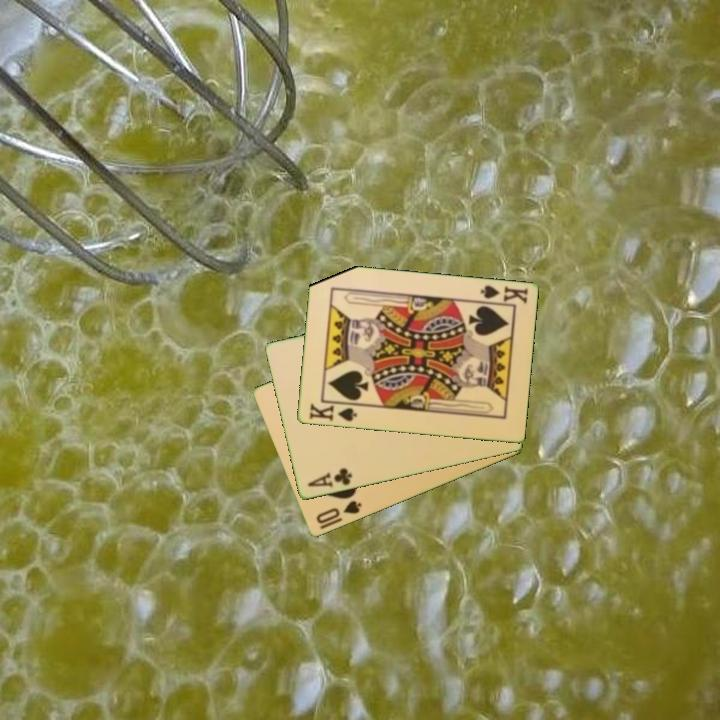10s: (313, 497, 365, 527)
Ac: (304, 465, 355, 491)
Ks: (305, 399, 360, 425), (474, 282, 530, 307)
